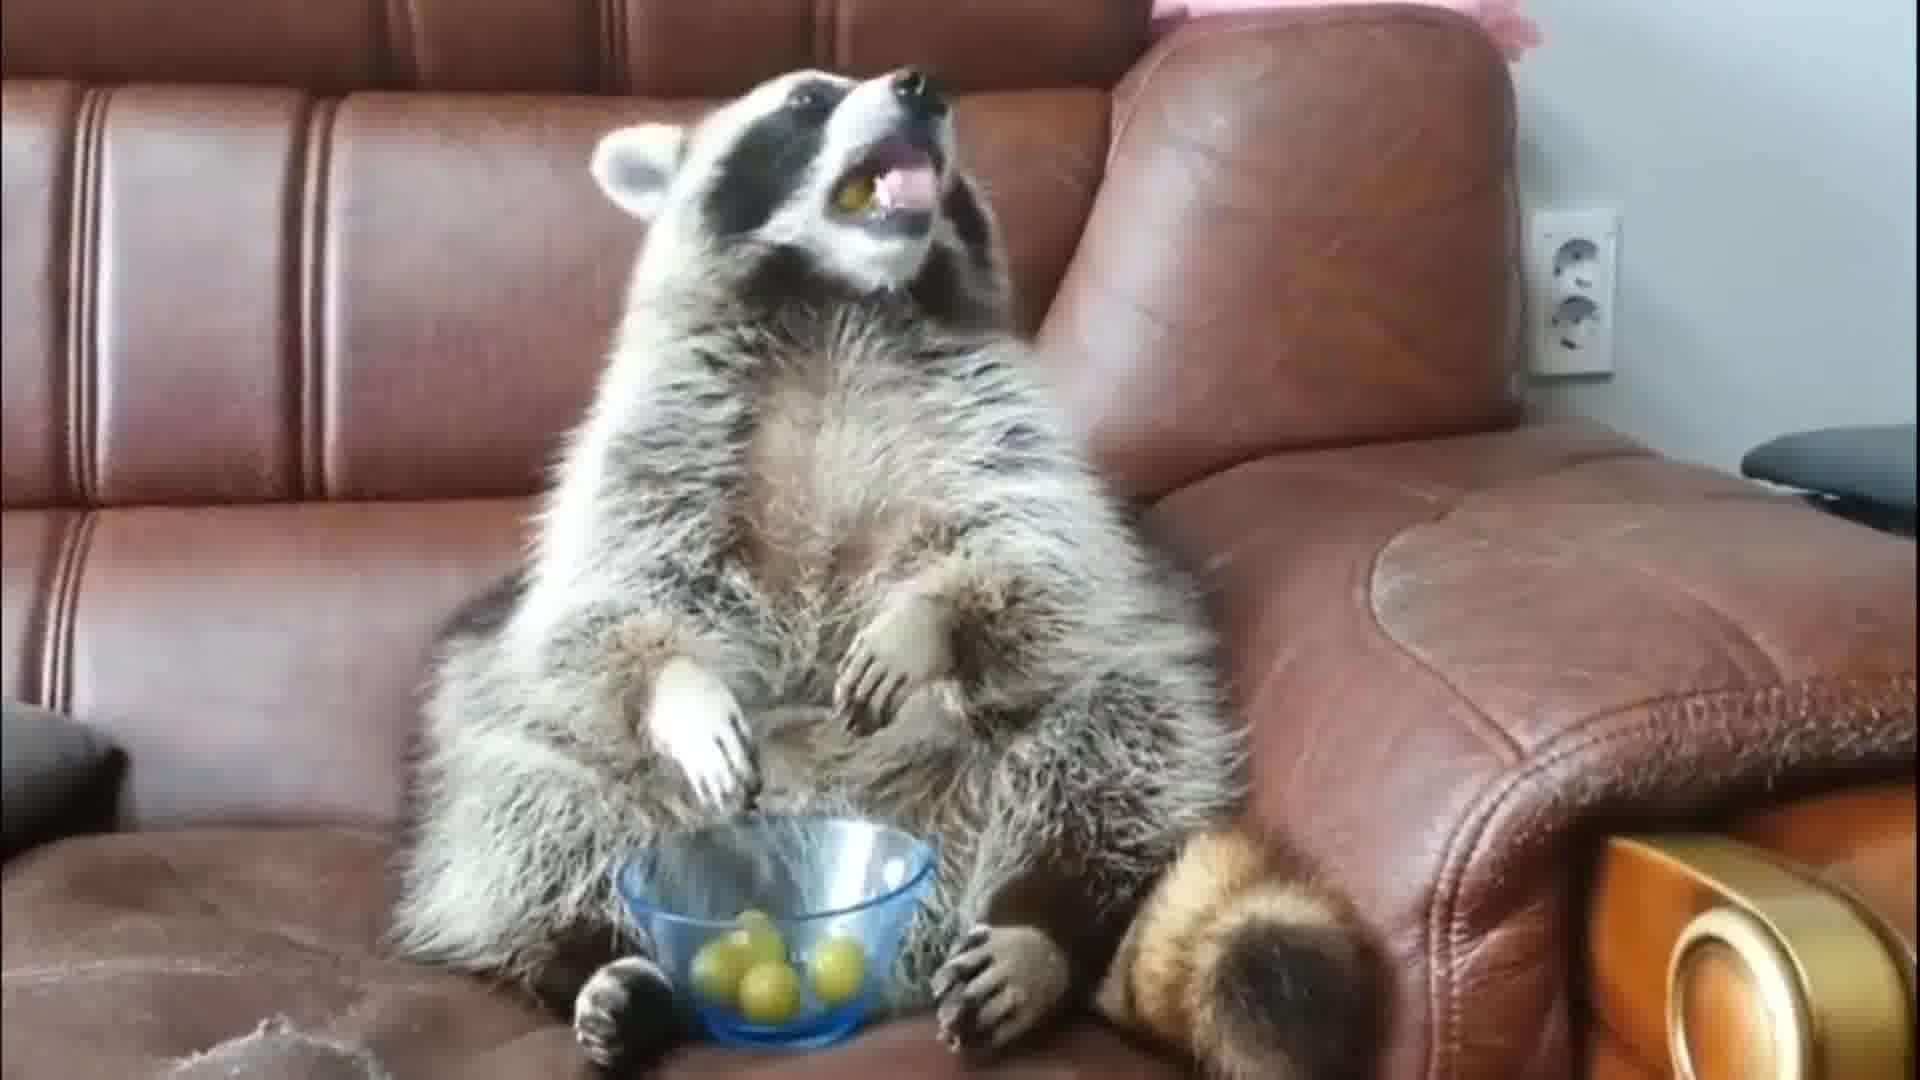raccoon: (397, 69, 1386, 1079)
